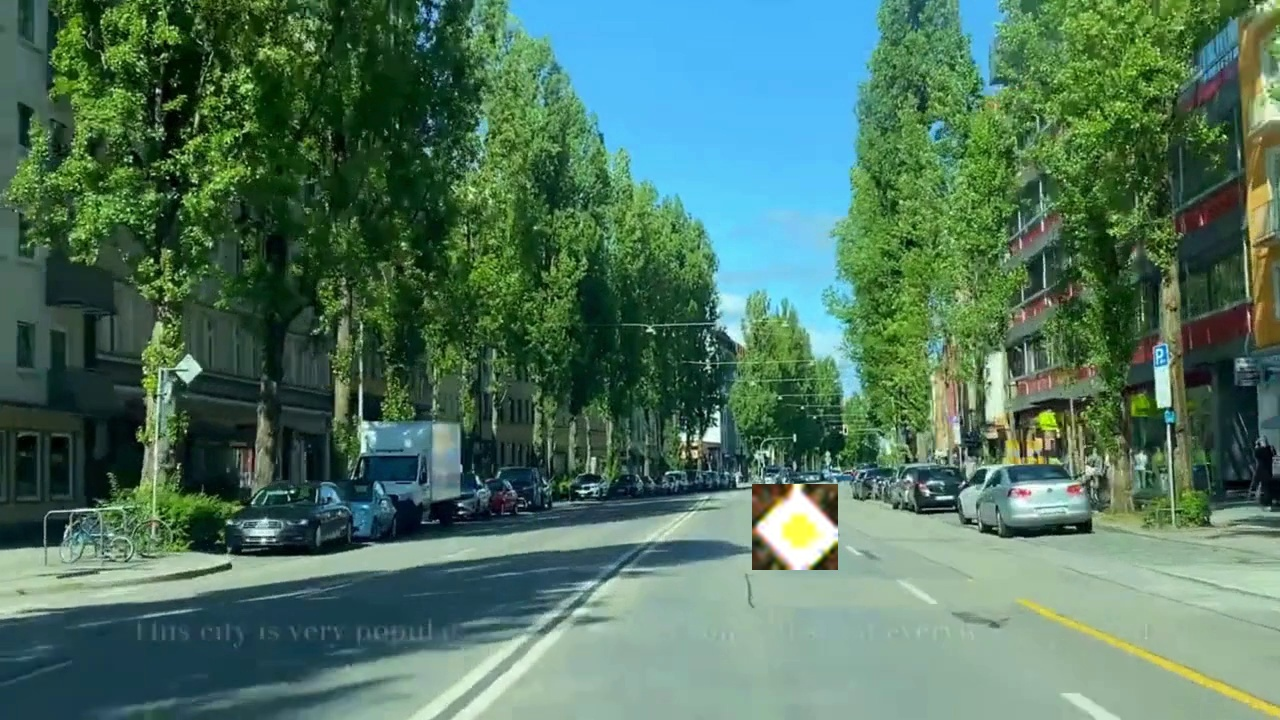Priority road: (752, 484, 838, 570)
